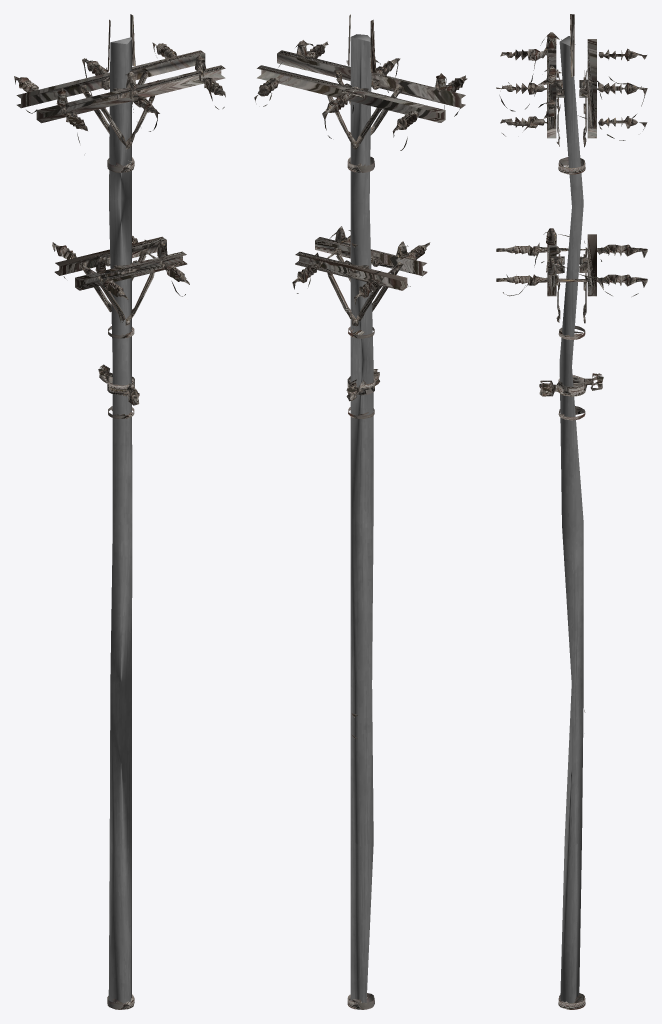
File: poste_a.glb
The picture shows the model from 3 angles, left to right: view 1: azimuth 30°, elevation 25°; view 2: azimuth 150°, elevation 25°; view 3: azimuth 270°, elevation 25°; orthographic projection.
Parts seen in each view (by area): view 1: cerca, lejos; view 2: cerca, lejos; view 3: cerca, lejos.
Boxes of the visible parts, x1,y1,x2,y2 form: cerca: (14,14,225,1009); lejos: (59,46,204,1003); cerca: (254,14,467,1009); lejos: (263,55,446,1003); cerca: (496,14,647,1009); lejos: (531,38,637,1003).
Bounding box in the file's own units: 1.2 × 6.13 × 0.8523.
2 materials, 2 textured.
